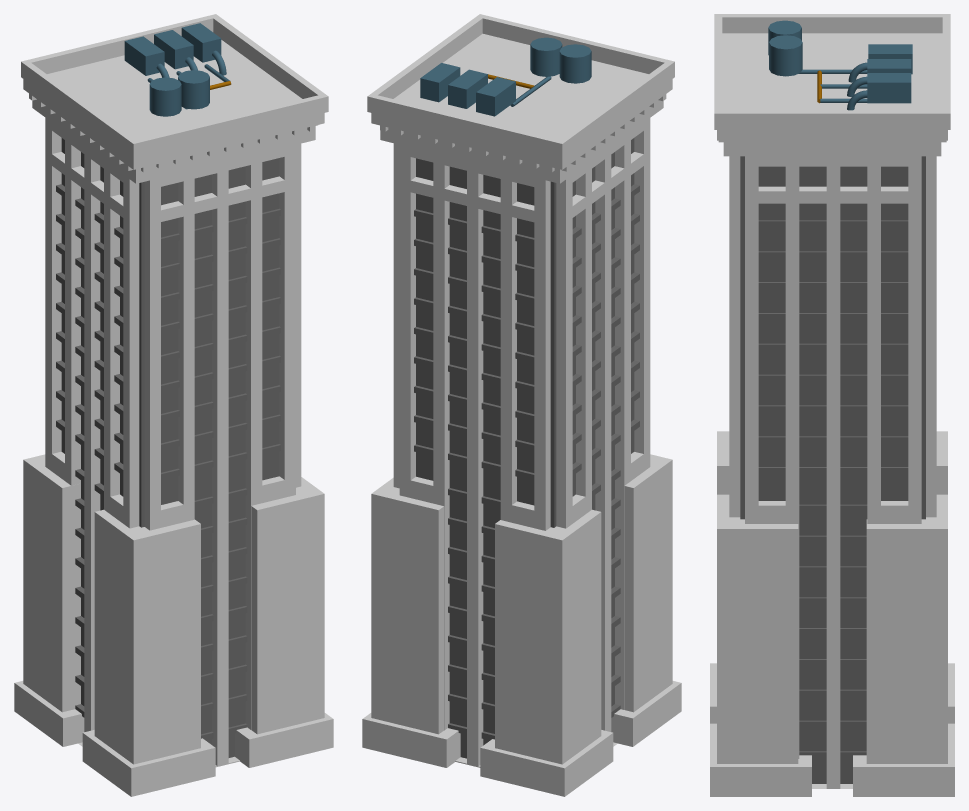
The model's file is skyscraper3.FBX.
3 renders of one model, left to right at view 1: azimuth 30°, elevation 25°; view 2: azimuth 150°, elevation 25°; view 3: azimuth 270°, elevation 25°, orthographic. The views are drawn at different scales.
Parts seen in each view (by area): view 1: se 4; view 2: se 4; view 3: se 4.
Part boxes in pixels (box(x1,y1,x2,y2)): se 4: box(14, 14, 333, 796); se 4: box(362, 14, 681, 796); se 4: box(710, 14, 954, 796).
Size of the model in its own units: 4407 by 13938 by 4407.
